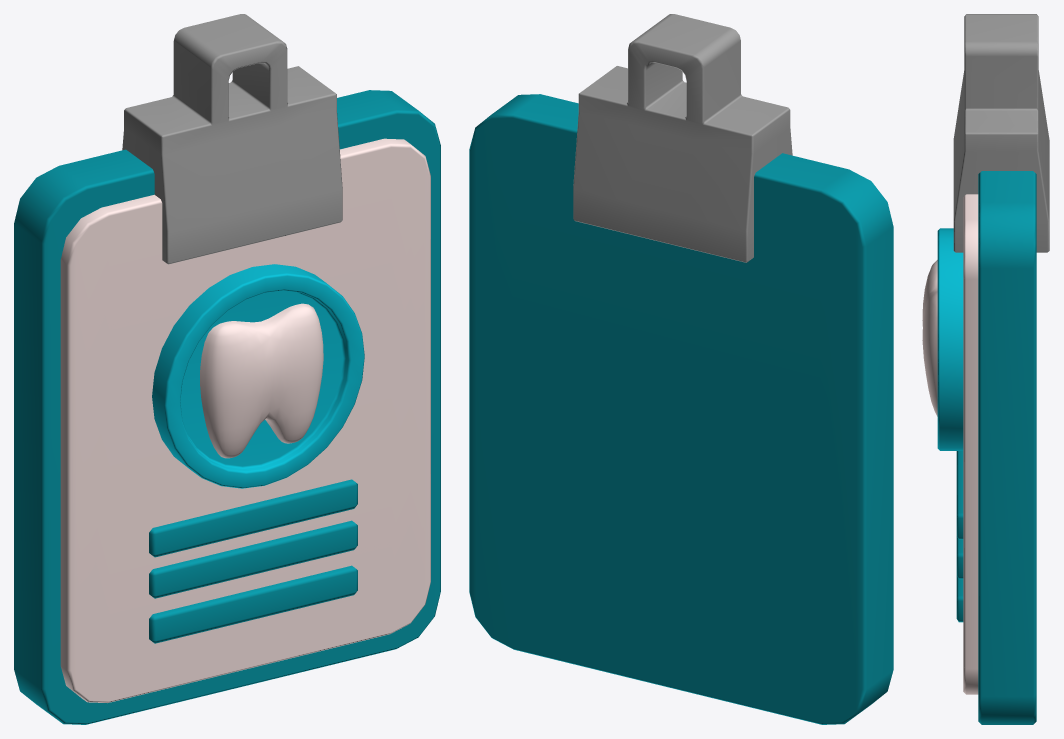
Rendered from Public_20_Dental_Report_1.glb.
3 views of the same model, side by side, from view 1: azimuth 30°, elevation 25°; view 2: azimuth 150°, elevation 25°; view 3: azimuth 270°, elevation 25° (orthographic). The views are drawn at different scales.
Visible parts, largest first — view 1: Public_20_Dental_Report_1; view 2: Public_20_Dental_Report_1; view 3: Public_20_Dental_Report_1.
Boxes of the visible parts, x1=… form: Public_20_Dental_Report_1: x1=14, y1=14, x2=440, y2=724; Public_20_Dental_Report_1: x1=469, y1=14, x2=893, y2=724; Public_20_Dental_Report_1: x1=922, y1=14, x2=1049, y2=724.
Size of the model in its own units: 1.25 by 1.93 by 0.3589.
Materials: 1 (1 with a texture image).
